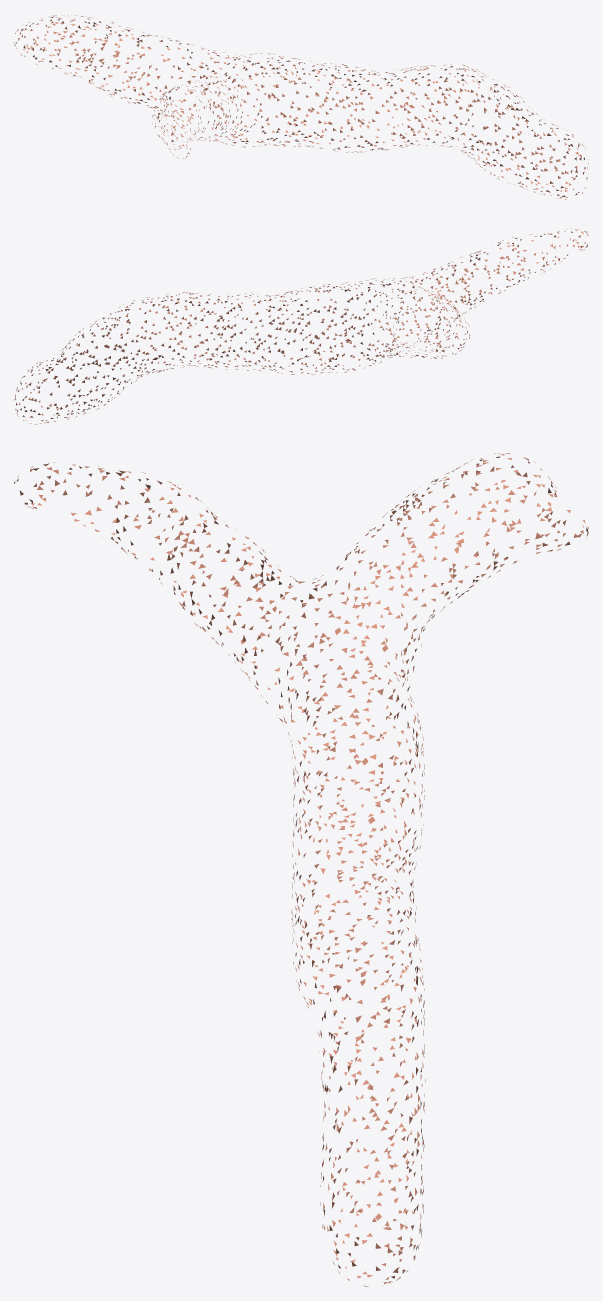
File: morph_003.glb
3 renders of one model, top to bottom at view 1: azimuth 30°, elevation 25°; view 2: azimuth 150°, elevation 25°; view 3: azimuth 270°, elevation 25°, orthographic. The views are drawn at different scales.
Size of the model in its own units: 112 by 53.51 by 63.95.
